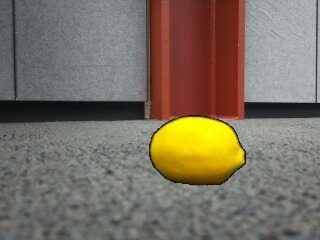lemon: (151, 117, 244, 184)
